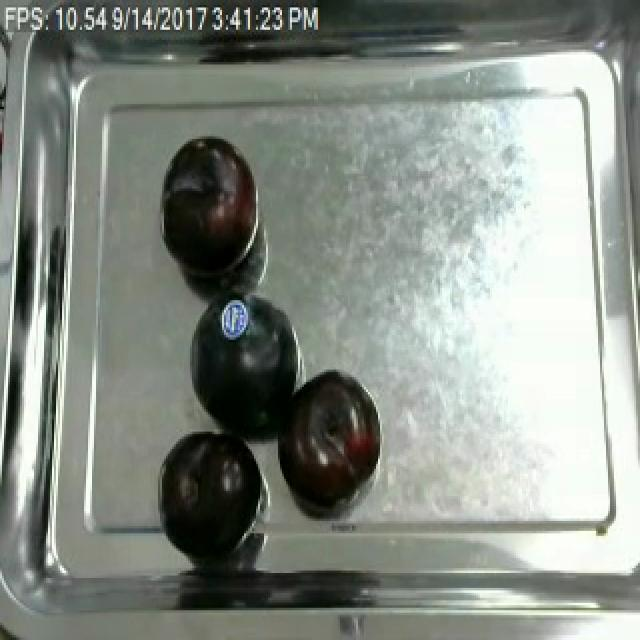Fruit: (272, 365, 384, 511), (156, 131, 260, 283), (156, 422, 264, 563), (212, 290, 260, 348)
